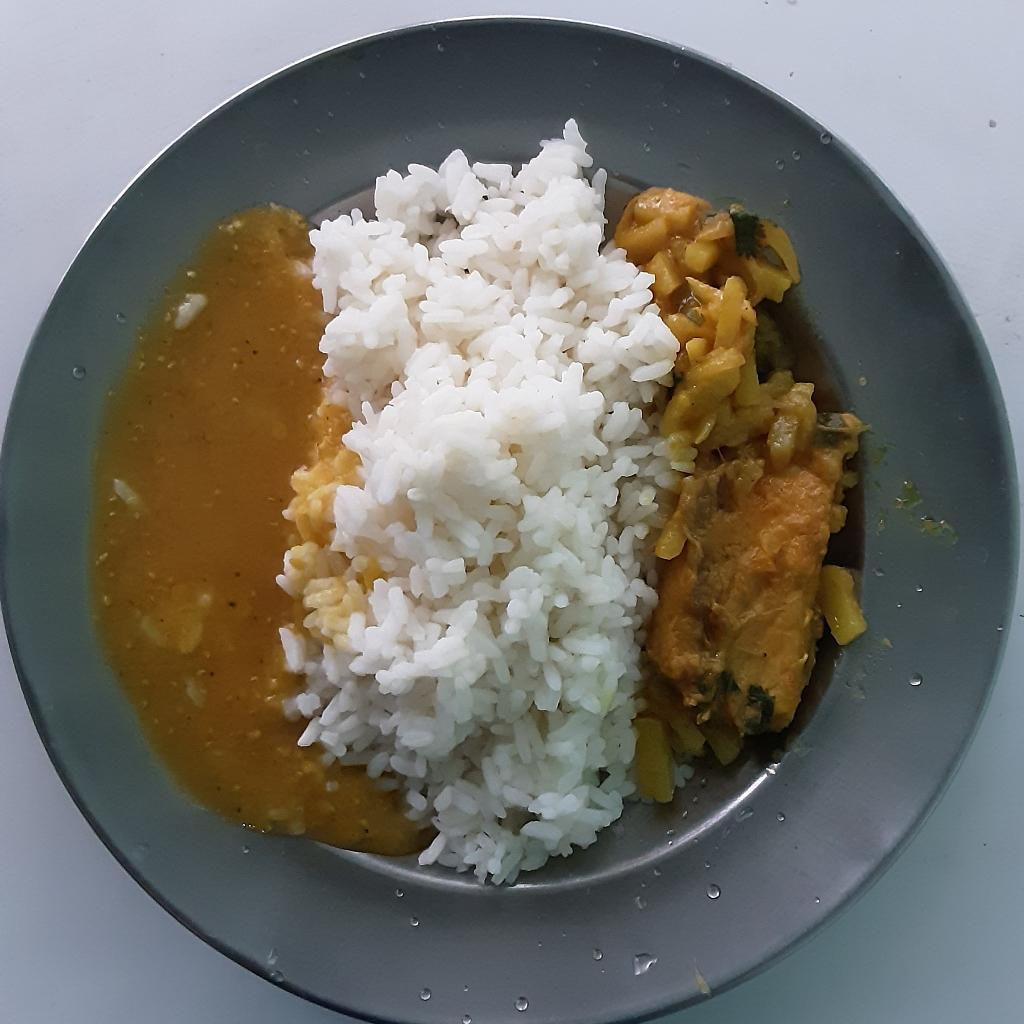daal: (85, 195, 413, 857)
fish: (648, 408, 860, 739)
potato: (612, 188, 827, 489)
potol: (636, 676, 737, 804)
rice: (271, 115, 699, 884)
